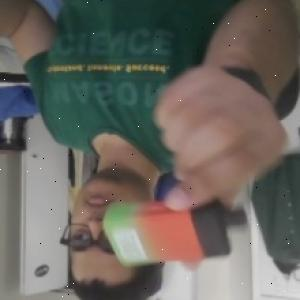Swift-E-Ciggirate: (103, 198, 256, 270)
